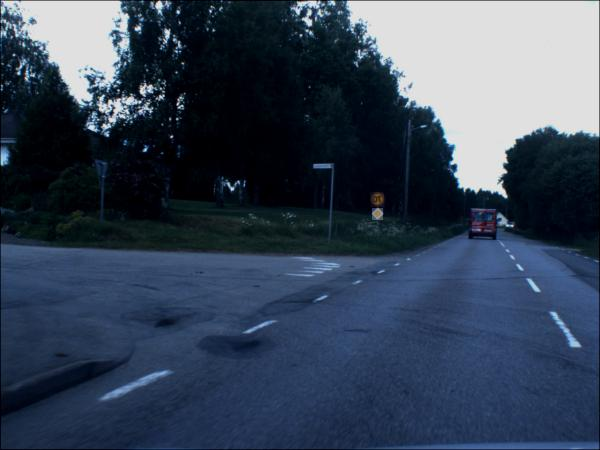70_SIGN: (370, 193, 385, 209)
PRIORITY_ROAD: (372, 209, 384, 222)
